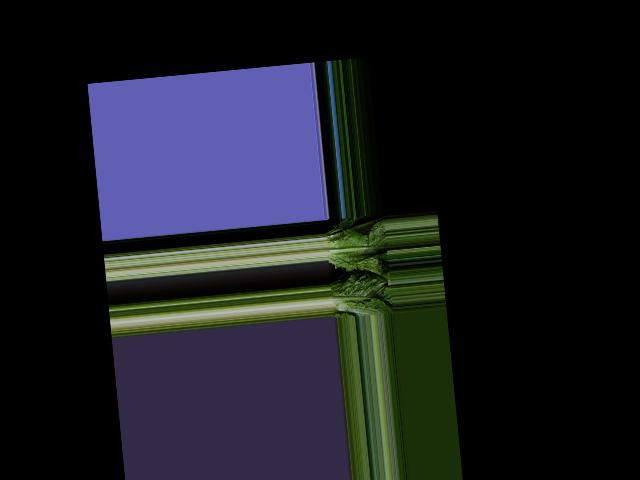lettuce: (328, 271, 390, 316)
